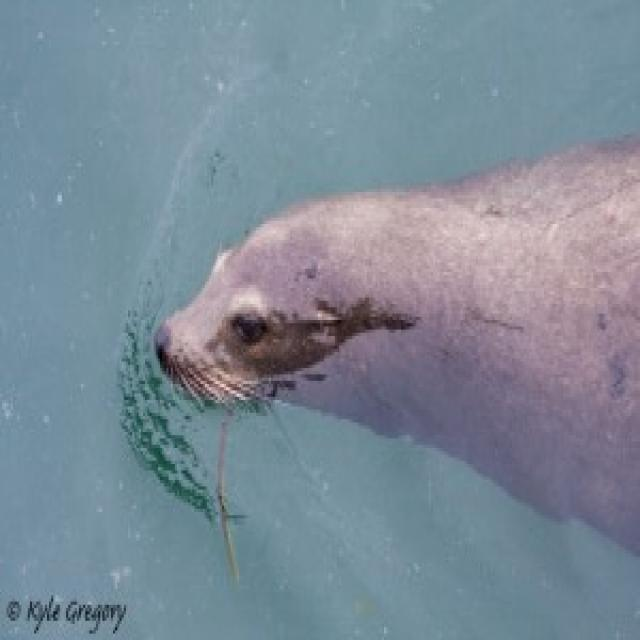Seal: (136, 124, 640, 537)
